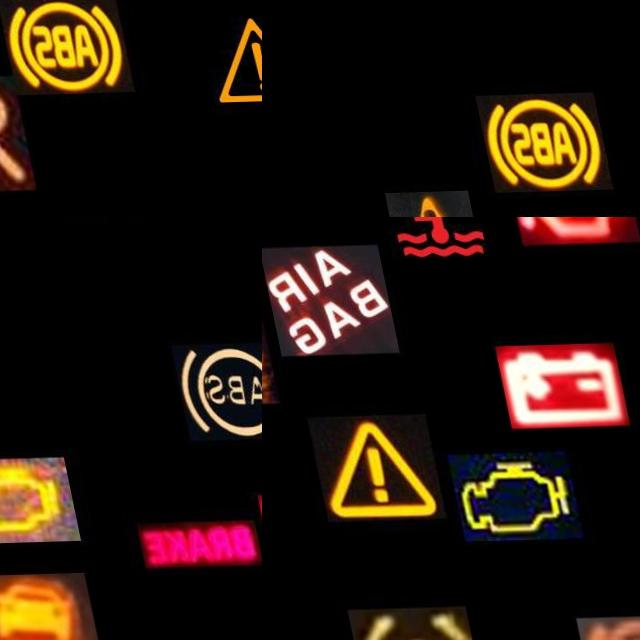Central Warning lamp: (295, 415, 430, 523), (169, 2, 262, 123), (374, 191, 477, 217)
Engine cooling system: (364, 217, 501, 279)
